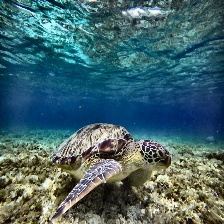seaturtle: (48, 123, 171, 222)
